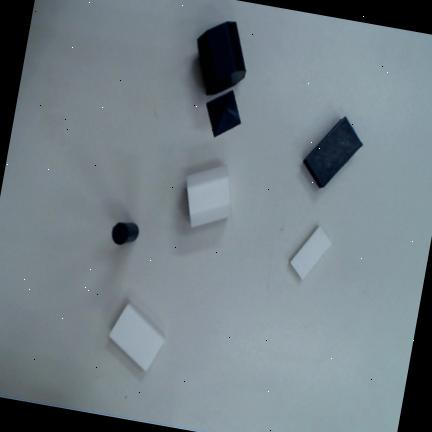Cilindro: (112, 222, 139, 245)
Paralelepipedo: (302, 115, 363, 189), (108, 303, 165, 371), (291, 226, 331, 280)
Piramide: (206, 90, 241, 138)
Prisma_hexagonal: (197, 21, 246, 96), (187, 166, 231, 227)
